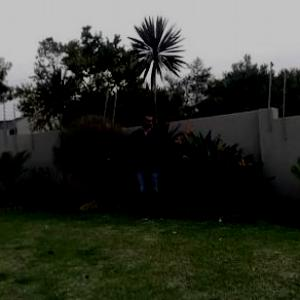land: (100, 103, 198, 228)
